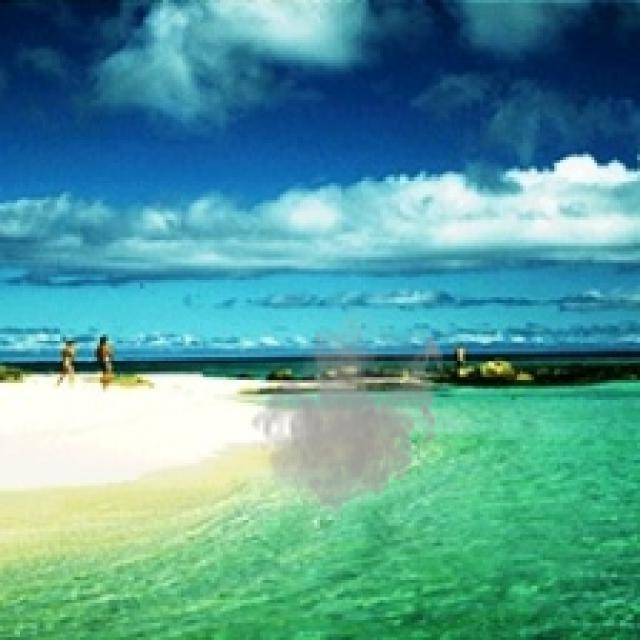Smoke: (248, 303, 448, 523)
